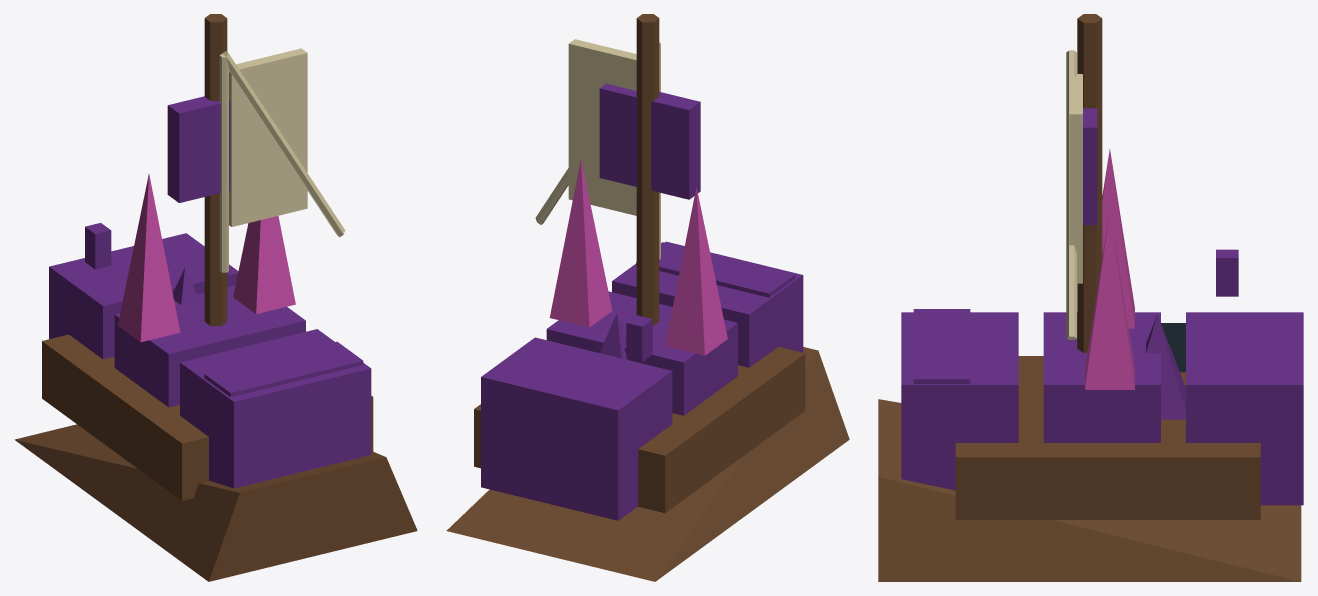
The model's file is trade-ship.obj.
3 views of the same model, side by side, from view 1: azimuth 30°, elevation 25°; view 2: azimuth 150°, elevation 25°; view 3: azimuth 270°, elevation 25° (orthographic). The views are drawn at different scales.
Visible parts, largest first — view 1: ship; view 2: ship; view 3: ship.
Boxes of the visible parts, x1,y1,x2,y2 form: ship: (14,14,417,581); ship: (446,14,849,581); ship: (878,14,1303,581).
Bounding box in the file's own units: 1.13 × 2.24 × 1.7.
